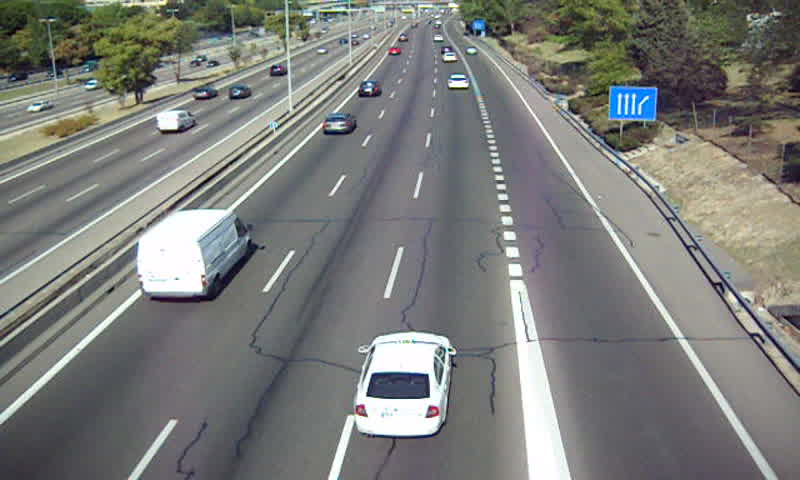car: (354, 332, 451, 437), (322, 114, 357, 135), (357, 80, 381, 99), (446, 74, 471, 91)
van: (138, 210, 250, 300)
